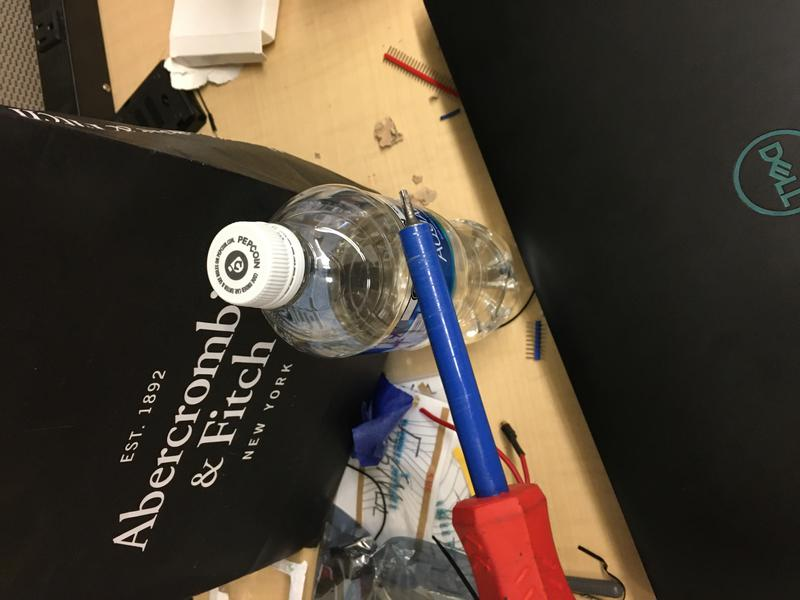bottle: (204, 179, 522, 362)
